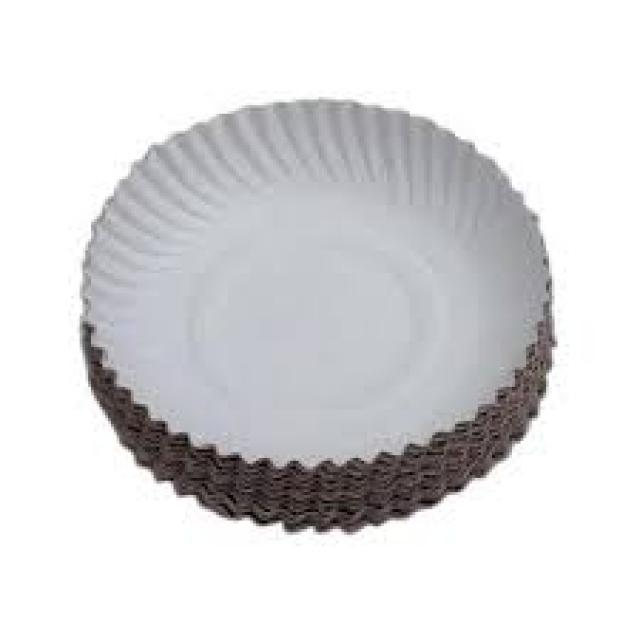Paper -Biodegradable-: (80, 96, 550, 529)
